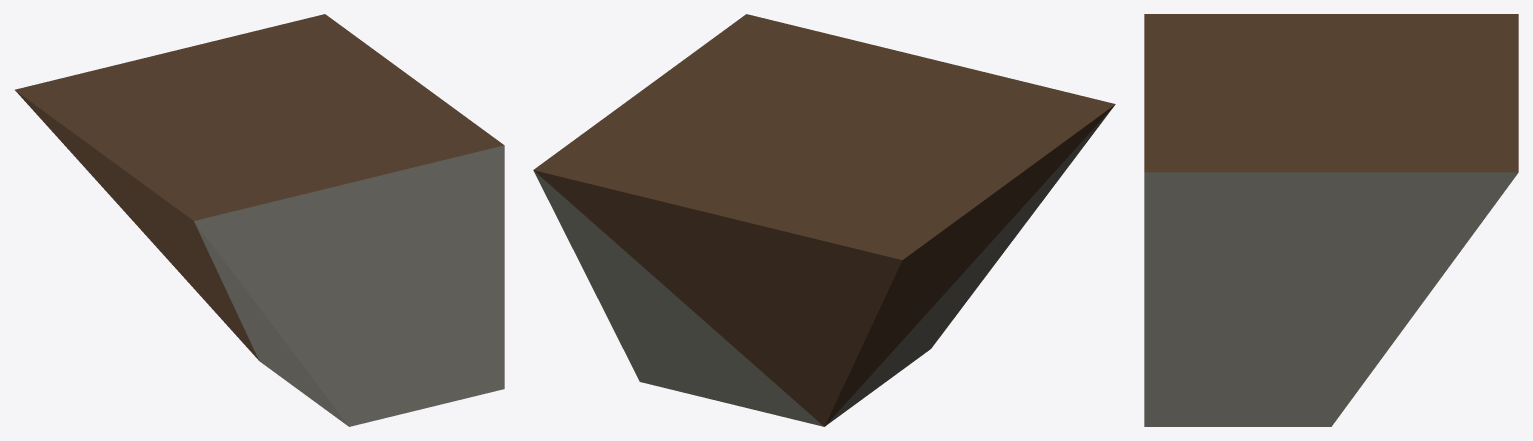
The picture shows the model from 3 angles, left to right: view 1: azimuth 30°, elevation 25°; view 2: azimuth 150°, elevation 25°; view 3: azimuth 270°, elevation 25°; orthographic projection. The views are drawn at different scales.
Visible parts, largest first — view 1: SM_Menaphite_Ruins_Roof_05_LOD0; view 2: SM_Menaphite_Ruins_Roof_05_LOD0; view 3: SM_Menaphite_Ruins_Roof_05_LOD0.
Boxes of the visible parts, left/top/right/bottom form: SM_Menaphite_Ruins_Roof_05_LOD0: left=15, top=14, right=504, bottom=426; SM_Menaphite_Ruins_Roof_05_LOD0: left=533, top=14, right=1115, bottom=426; SM_Menaphite_Ruins_Roof_05_LOD0: left=1144, top=14, right=1518, bottom=426.
Size of the model in its own units: 2 by 1.5 by 2.
